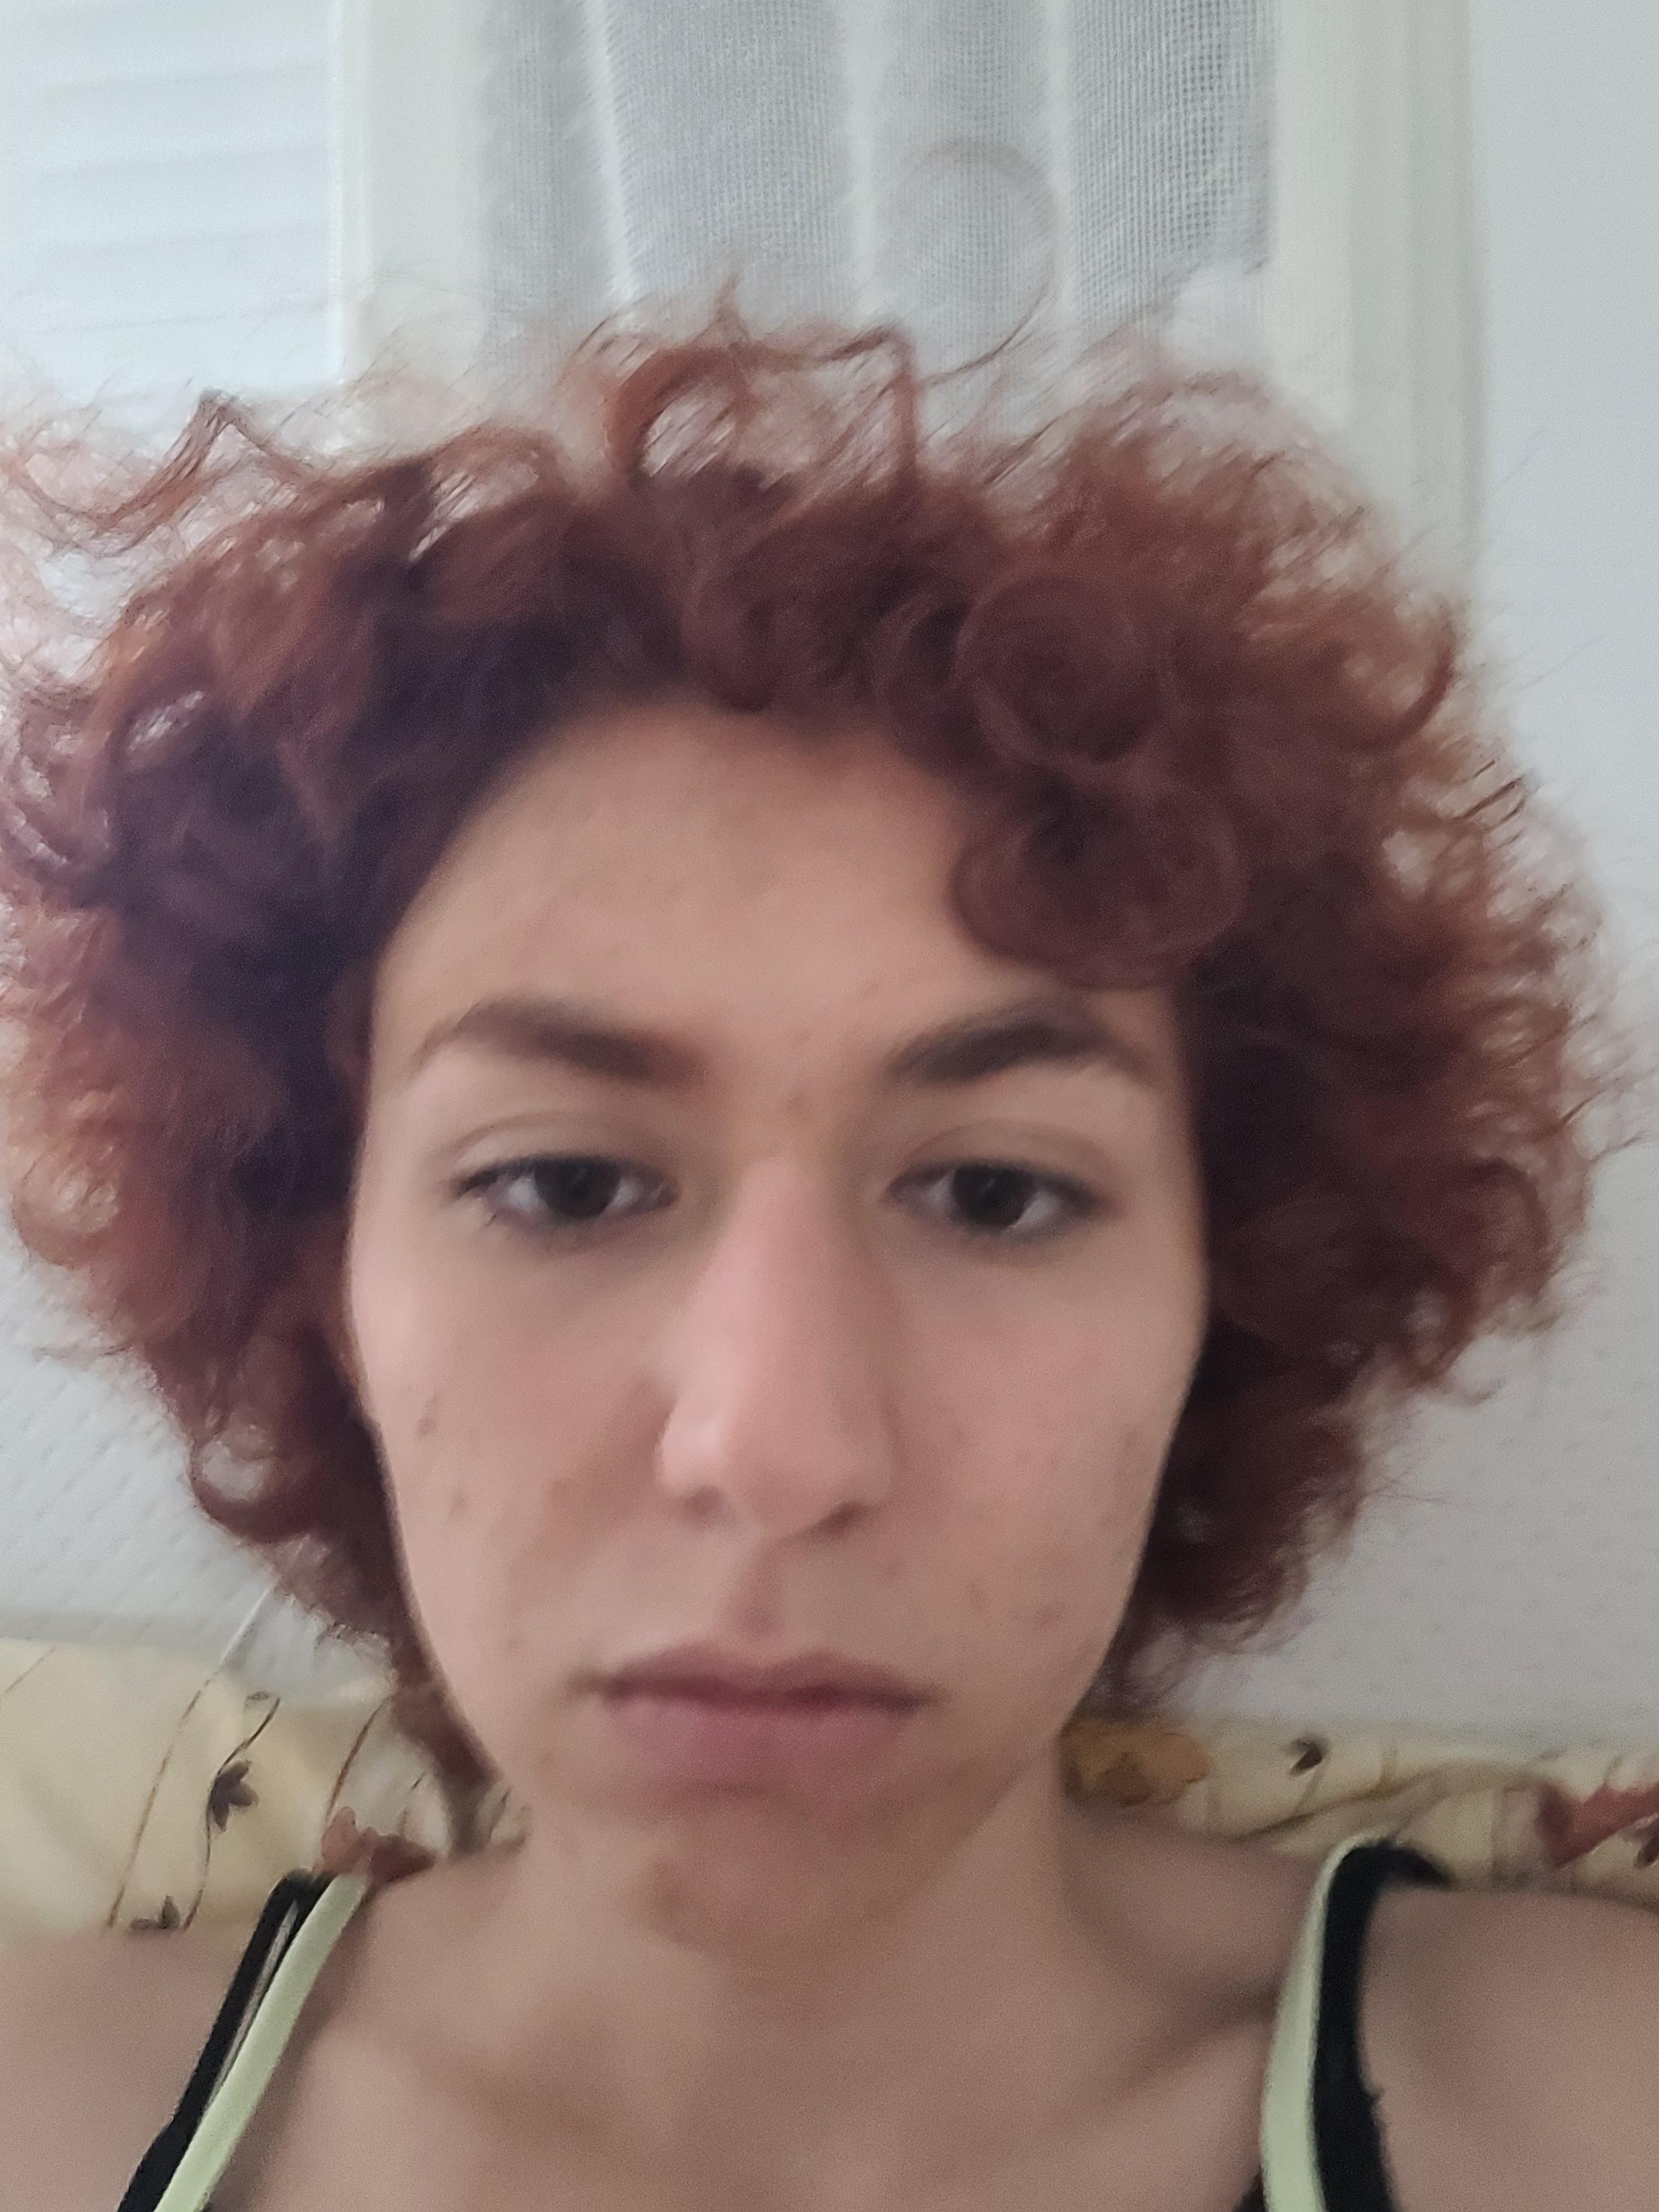Acne: (1044, 1634, 1096, 1703), (1110, 1414, 1143, 1510), (631, 1851, 694, 1902), (415, 1392, 443, 1446), (1026, 1599, 1075, 1629), (439, 1486, 474, 1526), (538, 1468, 573, 1503), (1007, 1439, 1042, 1474), (782, 1083, 810, 1125), (877, 1552, 908, 1588), (964, 1576, 990, 1616), (493, 1629, 525, 1662), (945, 1423, 972, 1460), (854, 970, 887, 998), (786, 1021, 816, 1049), (533, 1740, 559, 1771), (1044, 1447, 1065, 1479)
